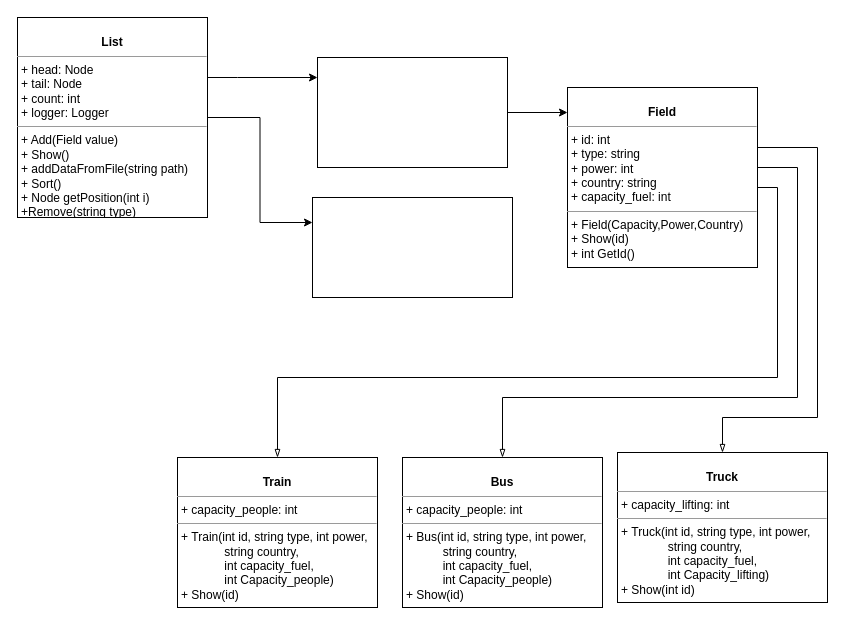
Image size: 845x625. Some labels were removed from this diagram. Each missing label, with the centre of its shape:
Jsonfield + logger: Logger + Field jsonfield(JToken item): (412,247)
Node + next: Node + field: Field + Node(Field Field): (412,112)
